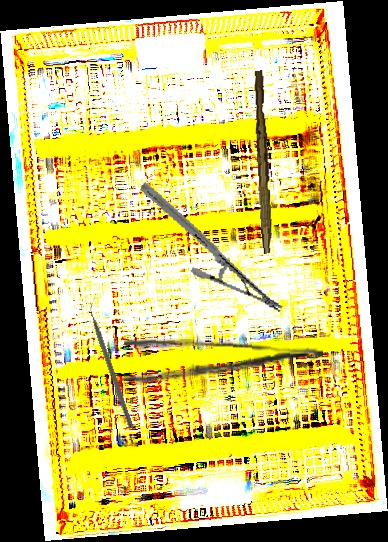Chopper: (84, 297, 141, 429)
Dressing Forceps: (121, 335, 324, 395)
Needle Holder: (120, 181, 303, 315)
Scalpel Handle: (250, 70, 277, 254)
